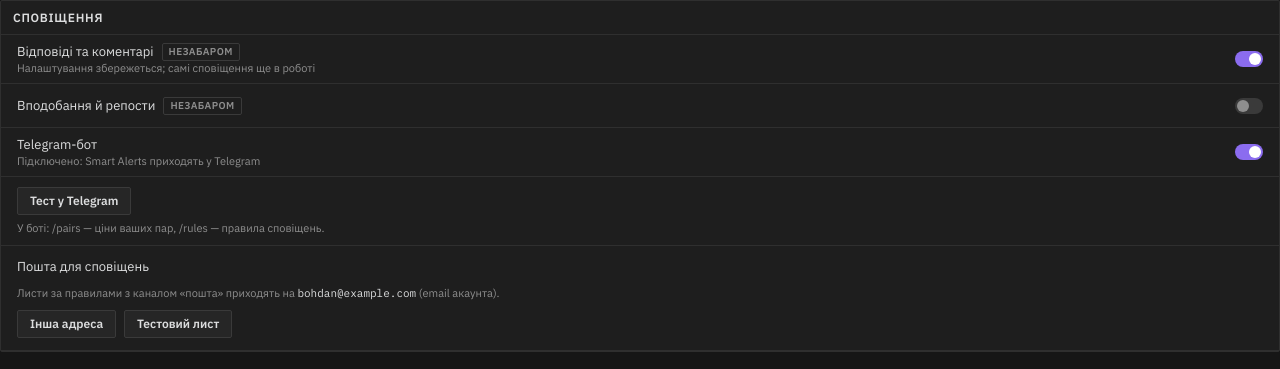
Test: тестові сповіщення › надсилає тест у Telegram і показує результат
Click the button "Тест у Telegram" at (74, 201), box x1=17 y1=187 x2=131 y2=215
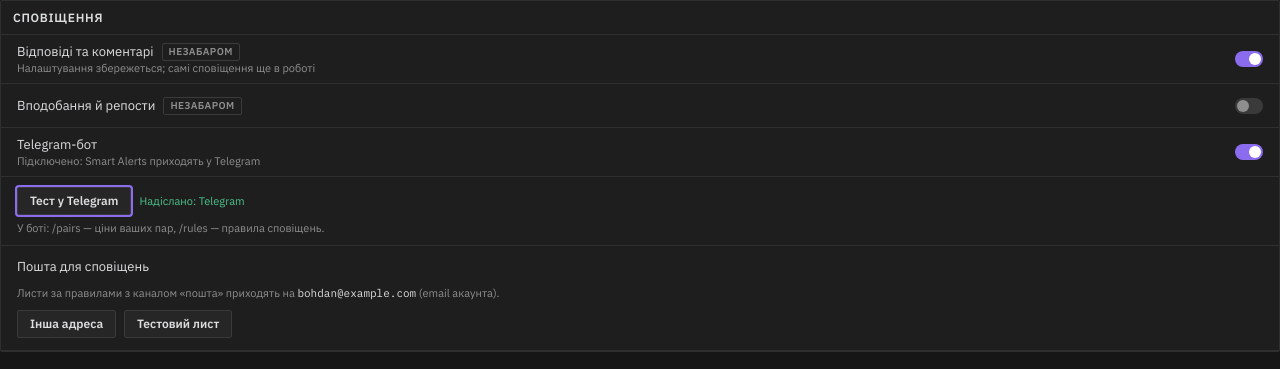
Expected: the text "У боті: /pairs — ціни ваших пар, /rules — правила сповіщень." is shown, x1=17 y1=221 x2=325 y2=235
Expected: the text "Надіслано: Telegram" is shown, x1=139 y1=194 x2=245 y2=208
